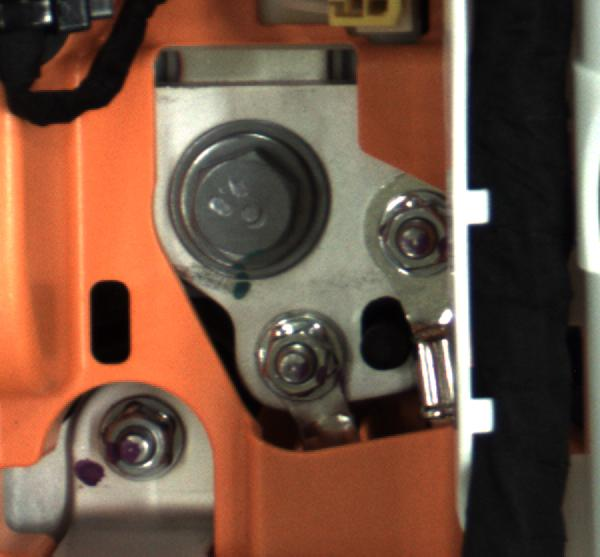nut_b: (161, 108, 336, 282)
screw_s: (104, 394, 213, 494), (246, 303, 349, 403), (381, 191, 462, 282)
